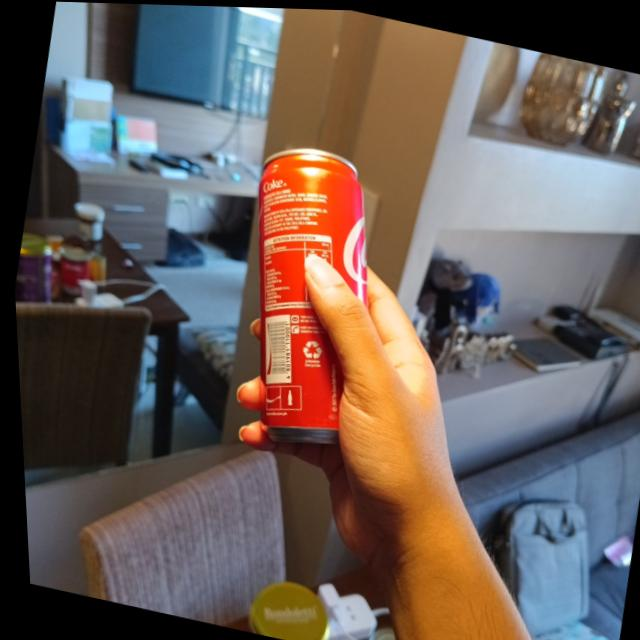coke: (209, 141, 395, 446)
